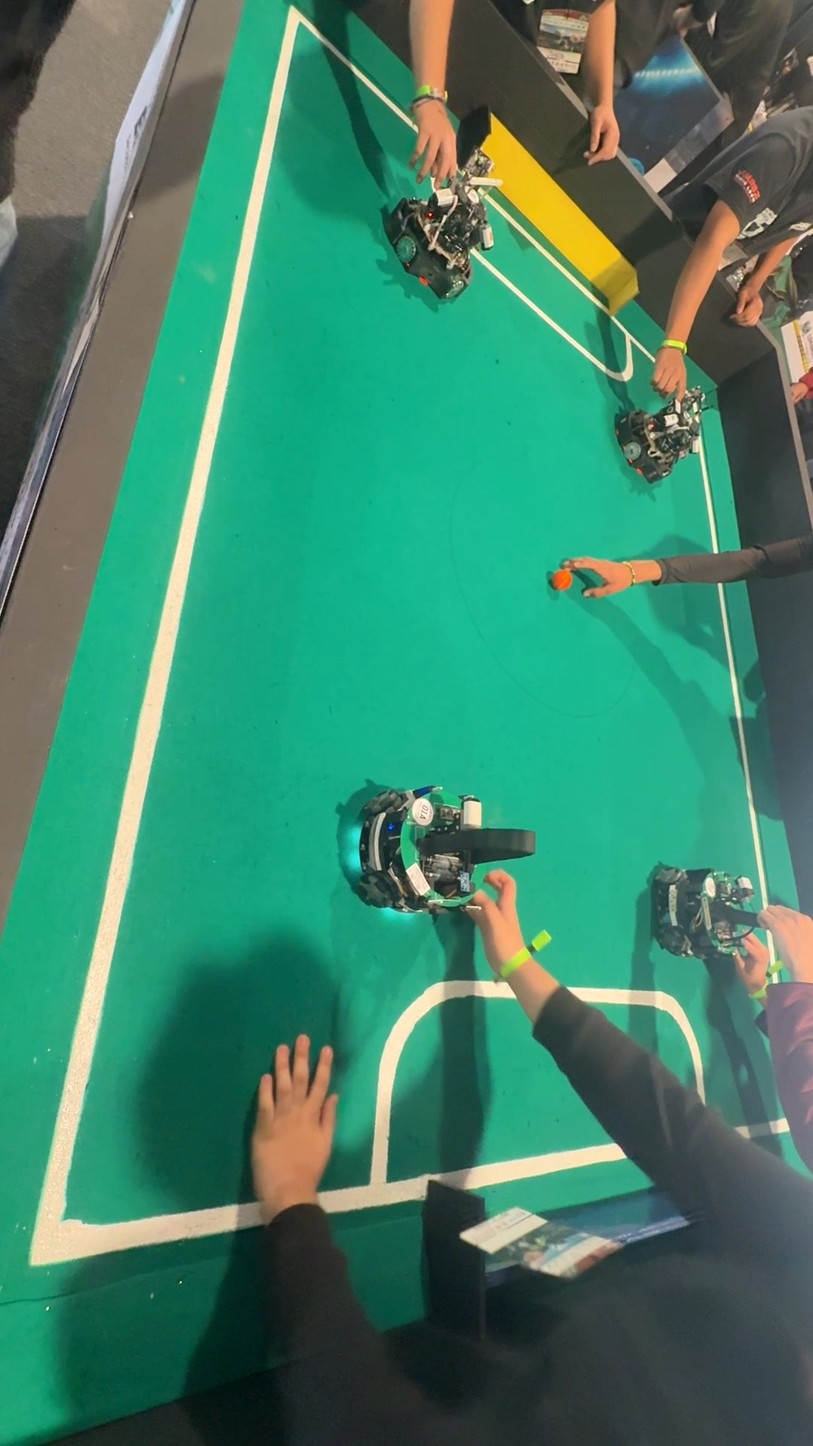Robot: (341, 746, 525, 926), (368, 142, 501, 312), (642, 828, 792, 972), (603, 398, 705, 499)
pelota: (549, 563, 577, 598)
